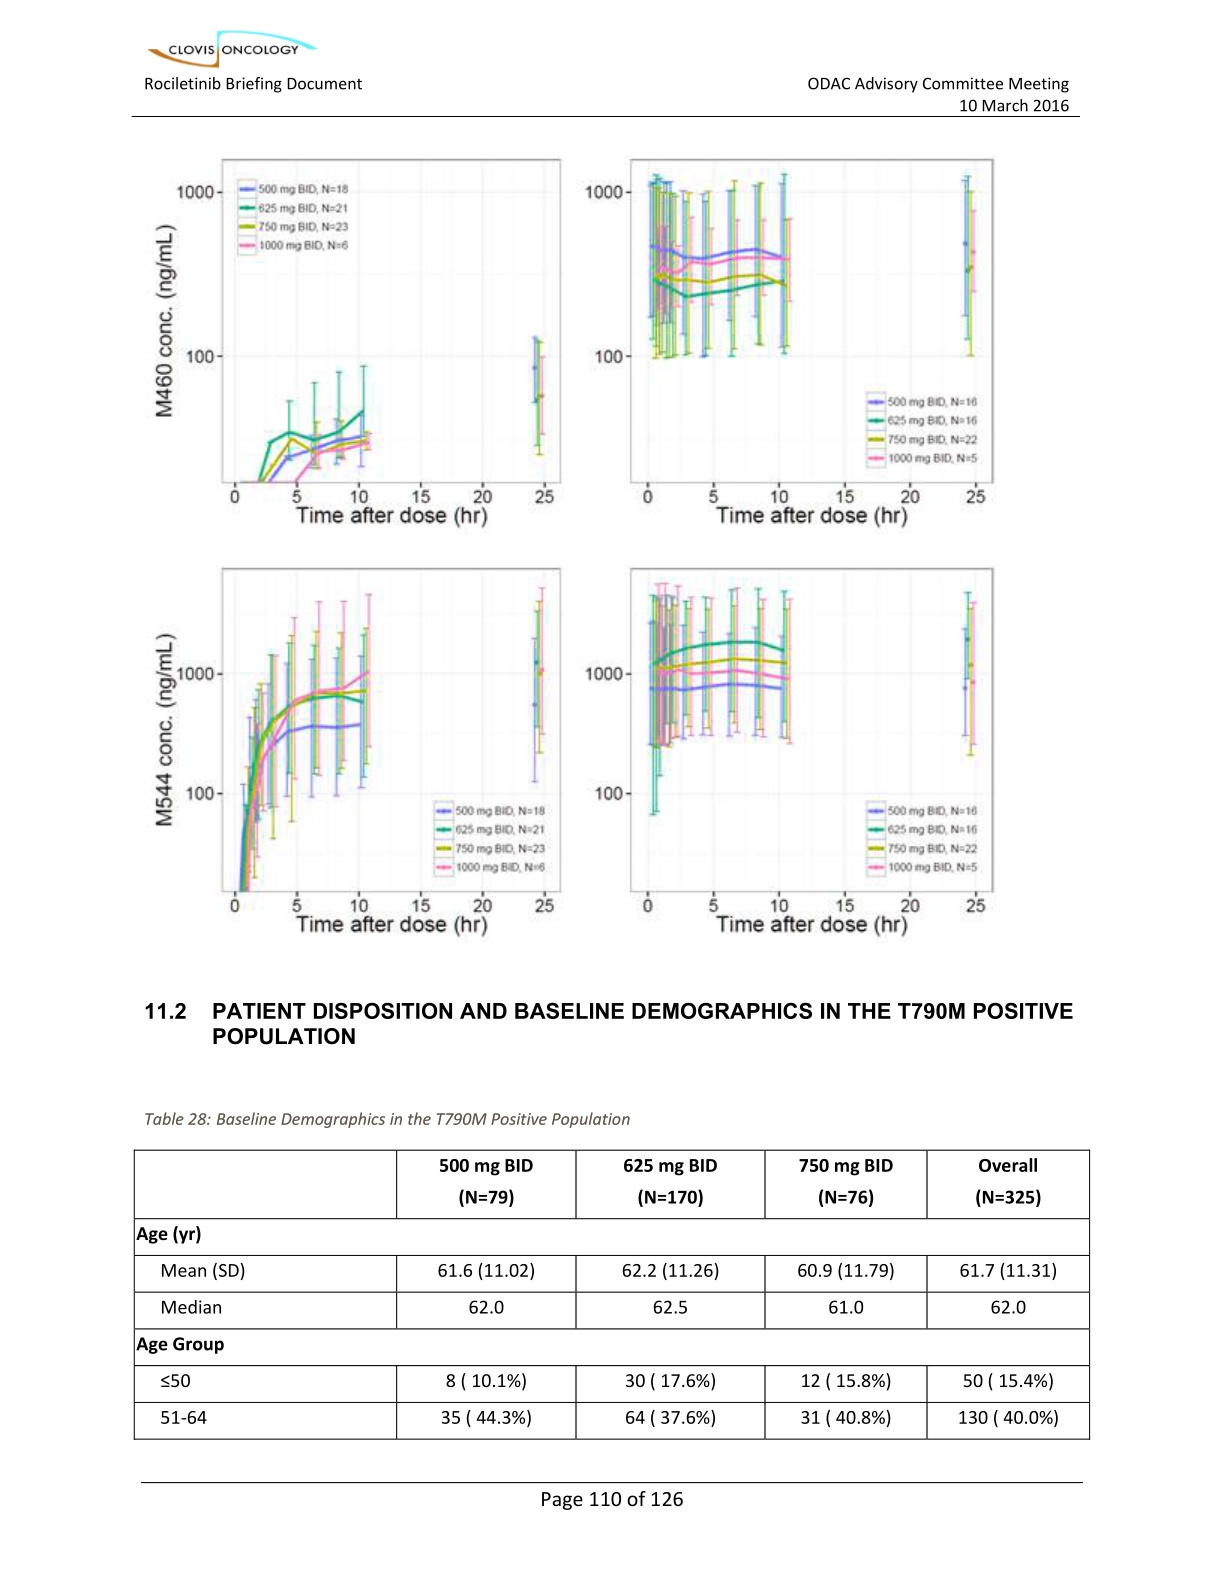merged_cells: (132, 1147, 1092, 1441)
